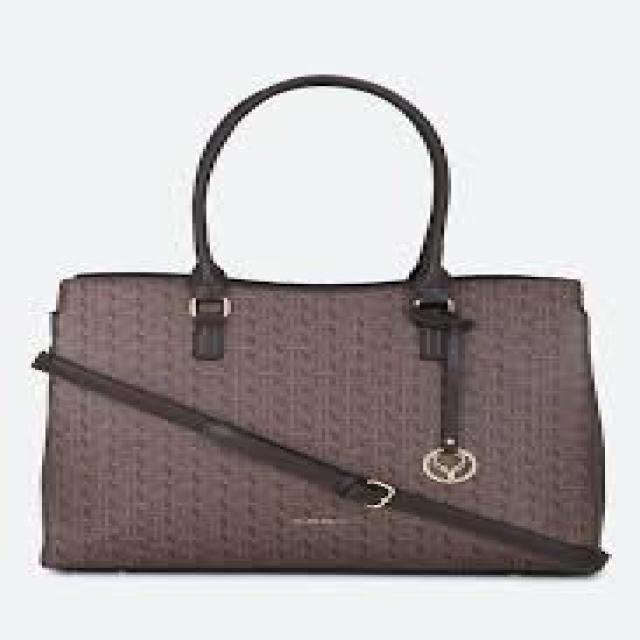handbag: (31, 72, 608, 575)
